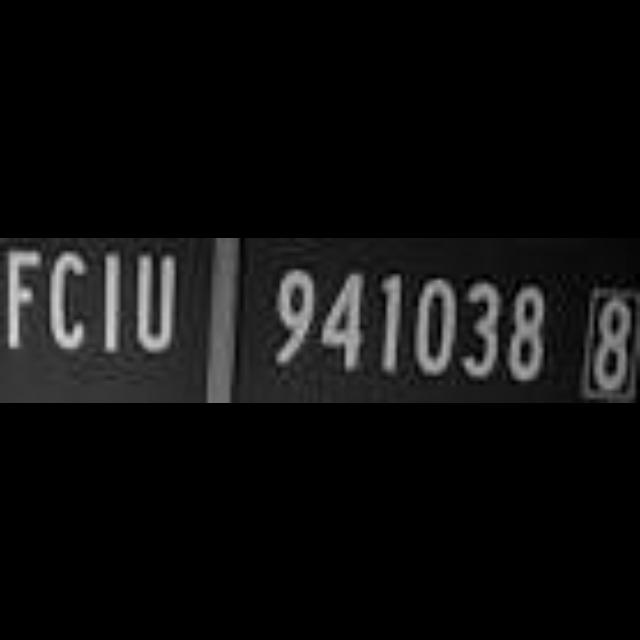0: (413, 270, 459, 378)
1: (372, 265, 406, 375)
3: (463, 274, 503, 384)
4: (318, 262, 369, 374)
8: (586, 292, 640, 402), (507, 280, 548, 384)
9: (262, 258, 316, 368)
c: (47, 246, 93, 360)
f: (0, 238, 46, 356)
i: (98, 244, 130, 362)
u: (136, 245, 184, 363)
